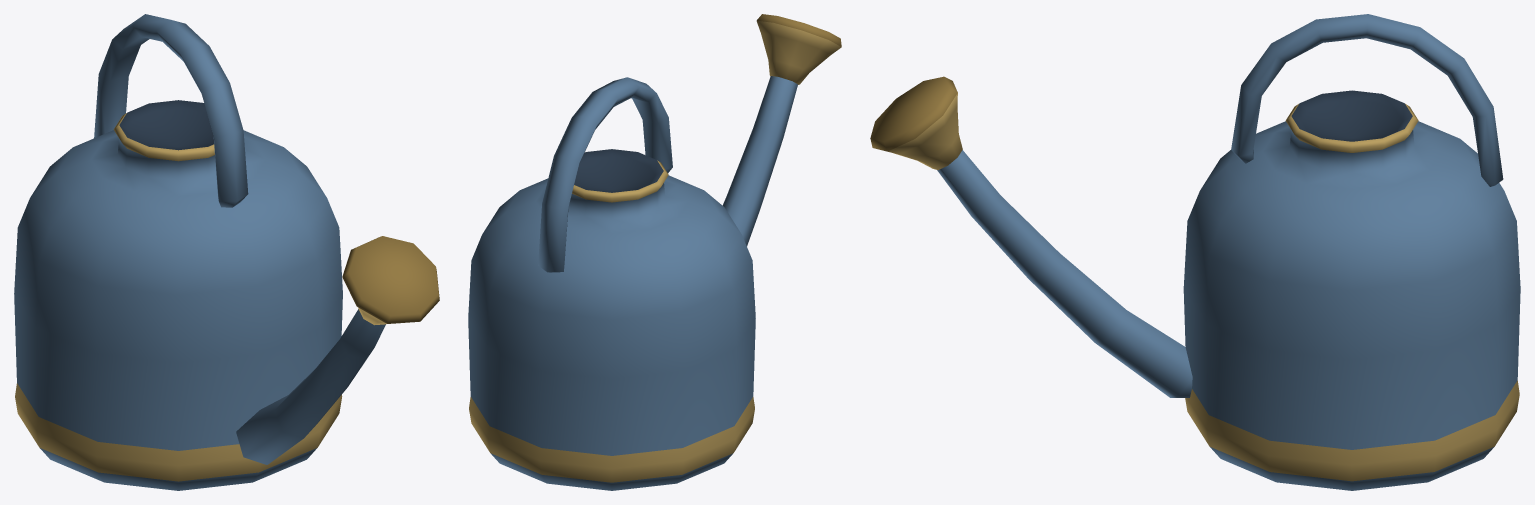
Rendered from PRP_Watering_Can_A.fbx.
3 renders of one model, left to right at view 1: azimuth 30°, elevation 25°; view 2: azimuth 150°, elevation 25°; view 3: azimuth 270°, elevation 25°, orthographic. The views are drawn at different scales.
Visible parts, largest first — view 1: PRP_Watering_Can_A_LOD0; view 2: PRP_Watering_Can_A_LOD0; view 3: PRP_Watering_Can_A_LOD0.
Part boxes in pixels (x1,y1,x2,y2): PRP_Watering_Can_A_LOD0: (14, 14, 439, 490); PRP_Watering_Can_A_LOD0: (468, 14, 841, 490); PRP_Watering_Can_A_LOD0: (870, 14, 1520, 490).
Size of what is drawn, in the model's own units: 0.081 by 0.1109 by 0.1563.
